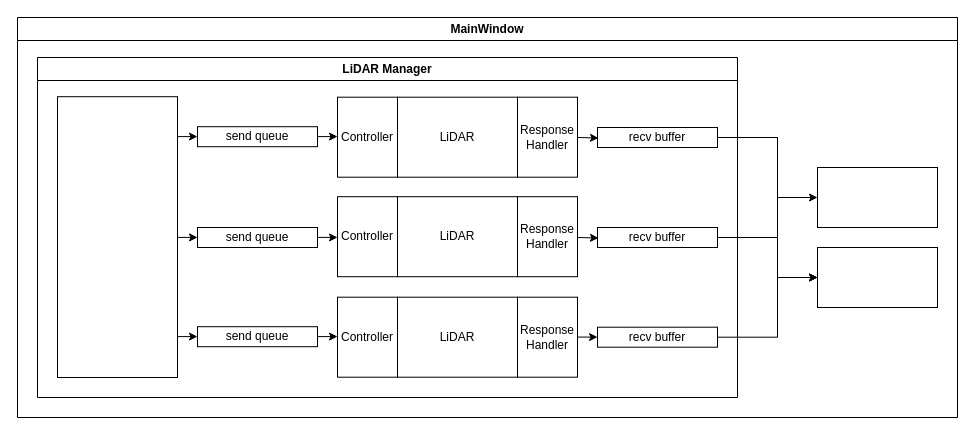
Image size: 975x435. Some labels were removed from this diagram. Each missing label, with the centre of its shape:
"GUI" belongs at point 117,237.
"LiDAR Status Monitor" belongs at point 877,277.
"Point Cloud Monitor" belongs at point 877,197.
